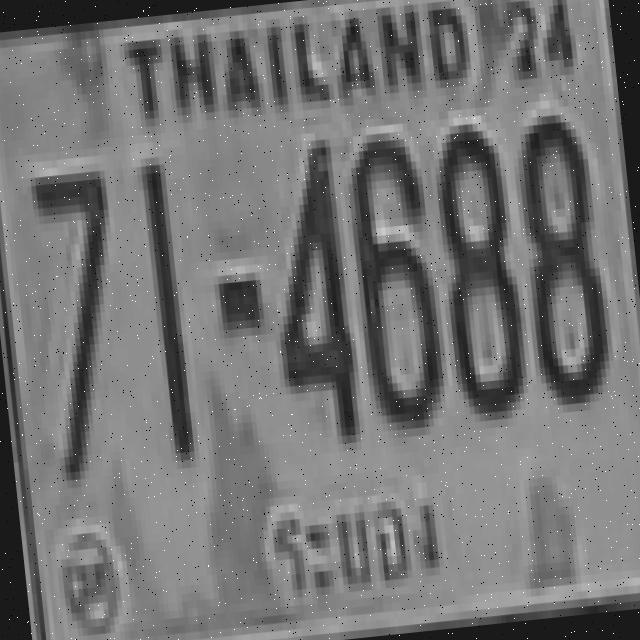1: (123, 124, 234, 487)
4: (254, 100, 390, 490)
6: (339, 124, 464, 473)
7: (20, 153, 138, 480)
8: (420, 105, 542, 462), (494, 87, 620, 430)
Rayong: (224, 470, 481, 626)
